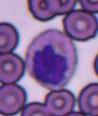M: (26, 30, 76, 89)
